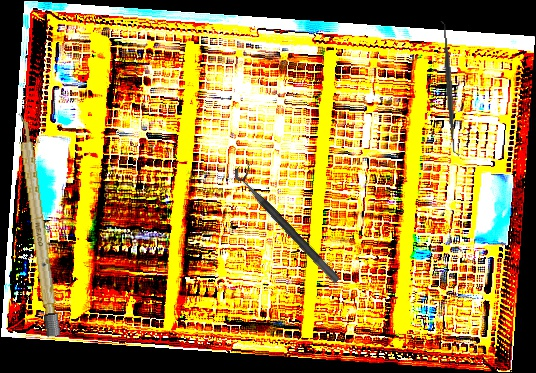Fixation Ring: (230, 158, 351, 285)
Scalpel Handle: (15, 112, 61, 338)
Spatula Surgical: (437, 20, 462, 157)
